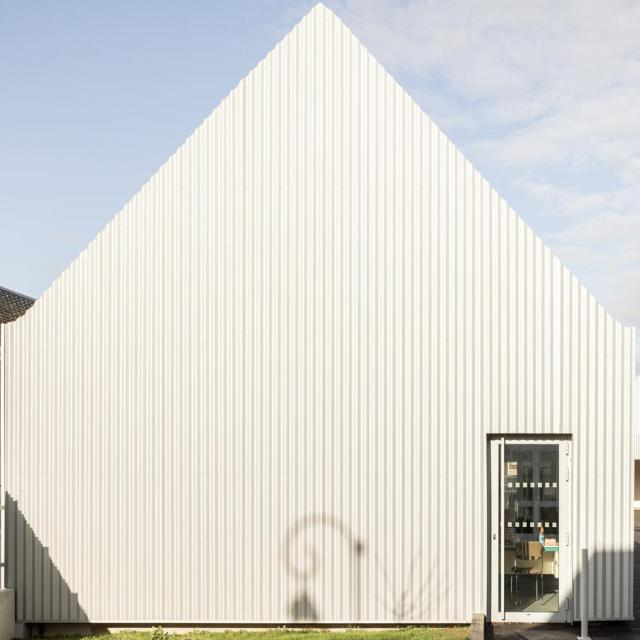door: (492, 435, 572, 622)
